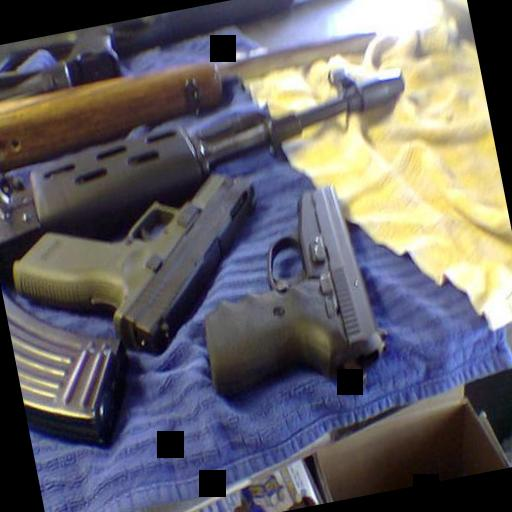Handgun: (0, 157, 281, 374), (177, 176, 393, 410)
